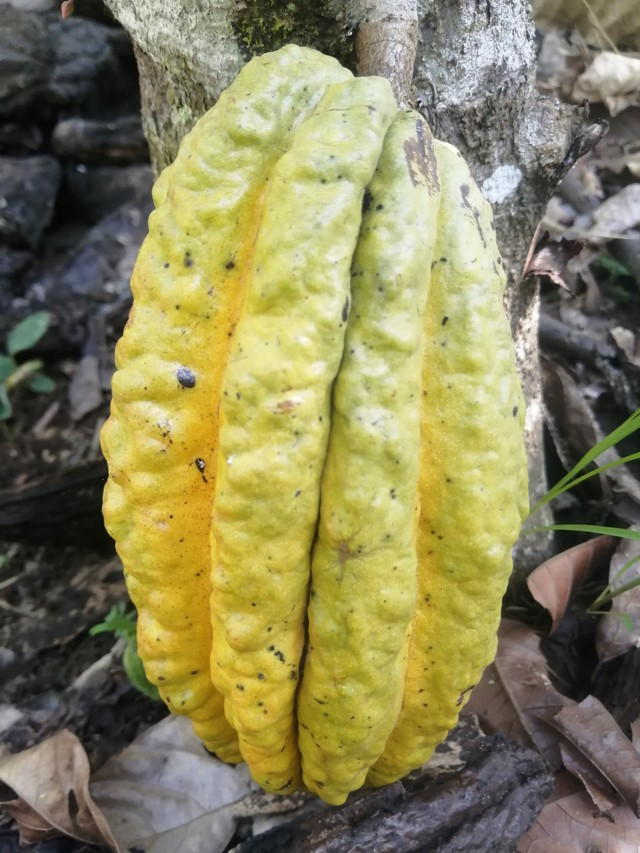Health: (71, 24, 560, 819)
